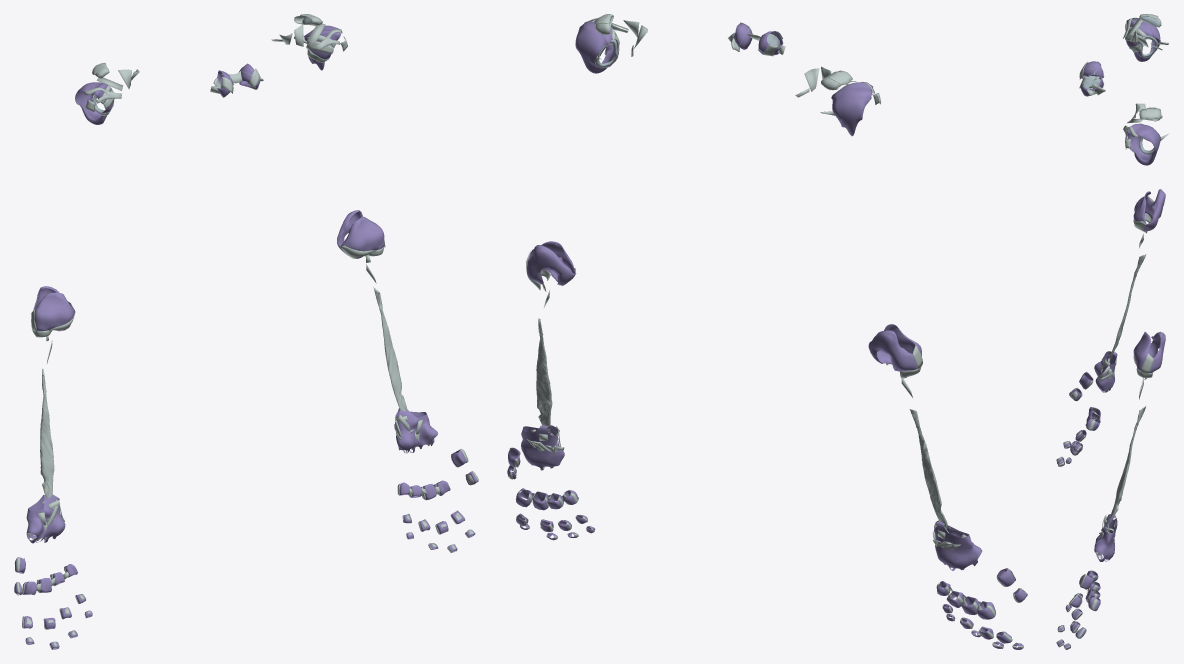
File: joints-upper-limb.glb
The picture shows the model from 3 angles, left to right: view 1: azimuth 30°, elevation 25°; view 2: azimuth 150°, elevation 25°; view 3: azimuth 270°, elevation 25°; orthographic projection. The views are drawn at different scales.
Visible parts, largest first — view 1: joint-articular-capsule-of-elbow-joint-l, joint-articular-capsule-of-elbow-joint-r, joint-articular-capsule-of-radiocarpal-joint-r, joint-interosseous-membrane-of-forearm-r, joint-articular-capsule-of-radiocarpal-joint-l, joint-interosseous-membrane-of-forearm-l, joint-articular-capsule-of-glenohumeral-joint-r, joint-articular-capsules-of-metacarpophalangeal-joints-l, joint-articular-capsules-of-metacarpophalangeal-joints-r; view 2: joint-articular-capsule-of-elbow-joint-r, joint-articular-capsule-of-elbow-joint-l, joint-articular-capsule-of-radiocarpal-joint-r, joint-articular-capsule-of-glenohumeral-joint-r, joint-articular-capsule-of-glenohumeral-joint-l, joint-articular-capsule-of-radiocarpal-joint-l, joint-interosseous-membrane-of-forearm-l, joint-articular-capsules-of-metacarpophalangeal-joints-r, joint-articular-capsules-of-metacarpophalangeal-joints-l, joint-interosseous-membrane-of-forearm-r; view 3: joint-articular-capsule-of-elbow-joint-l, joint-articular-capsule-of-glenohumeral-joint-l, joint-articular-capsule-of-elbow-joint-r, joint-articular-capsule-of-radiocarpal-joint-l, joint-interosseous-membrane-of-forearm-l, joint-articular-capsule-of-radiocarpal-joint-r, joint-articular-capsule-of-glenohumeral-joint-r, joint-articular-capsules-of-metacarpophalangeal-joints-l, joint-articular-capsules-of-proximal-interphalangeal-joints- (×2), joint-articular-capsules-of-metacarpophalangeal-joints-r, joint-interosseous-membrane-of-forearm-r, joint-articular-capsule-of-sternoclavicular-joint-r (+3 smaller).
Boxes of the visible parts, x1,y1,x2,y2 form: joint-articular-capsule-of-elbow-joint-l: [337, 210, 384, 258]; joint-articular-capsule-of-elbow-joint-r: [33, 286, 74, 331]; joint-articular-capsule-of-radiocarpal-joint-r: [26, 494, 65, 543]; joint-interosseous-membrane-of-forearm-r: [40, 368, 54, 498]; joint-articular-capsule-of-radiocarpal-joint-l: [395, 408, 437, 453]; joint-interosseous-membrane-of-forearm-l: [373, 287, 407, 411]; joint-articular-capsule-of-glenohumeral-joint-r: [75, 82, 113, 124]; joint-articular-capsules-of-metacarpophalangeal-joints-l: [399, 449, 466, 499]; joint-articular-capsules-of-metacarpophalangeal-joints-r: [14, 557, 77, 594]; joint-articular-capsule-of-elbow-joint-r: [868, 324, 921, 371]; joint-articular-capsule-of-elbow-joint-l: [526, 241, 575, 285]; joint-articular-capsule-of-radiocarpal-joint-r: [934, 520, 982, 570]; joint-articular-capsule-of-glenohumeral-joint-r: [831, 82, 873, 136]; joint-articular-capsule-of-glenohumeral-joint-l: [575, 20, 619, 73]; joint-articular-capsule-of-radiocarpal-joint-l: [521, 425, 564, 470]; joint-interosseous-membrane-of-forearm-l: [536, 318, 552, 430]; joint-articular-capsules-of-metacarpophalangeal-joints-r: [936, 568, 1014, 619]; joint-articular-capsules-of-metacarpophalangeal-joints-l: [508, 448, 578, 510]; joint-interosseous-membrane-of-forearm-r: [909, 409, 947, 528]; joint-articular-capsule-of-elbow-joint-l: [1133, 331, 1165, 373]; joint-articular-capsule-of-glenohumeral-joint-l: [1126, 123, 1160, 165]; joint-articular-capsule-of-elbow-joint-r: [1133, 189, 1165, 231]; joint-articular-capsule-of-radiocarpal-joint-l: [1094, 514, 1117, 561]; joint-interosseous-membrane-of-forearm-l: [1109, 406, 1146, 522]; joint-articular-capsule-of-radiocarpal-joint-r: [1094, 351, 1117, 392]; joint-articular-capsule-of-glenohumeral-joint-r: [1126, 18, 1160, 61]; joint-articular-capsules-of-metacarpophalangeal-joints-l: [1079, 570, 1100, 611]; joint-articular-capsules-of-proximal-interphalangeal-joints- (×2): [1070, 430, 1086, 638]; joint-articular-capsules-of-metacarpophalangeal-joints-r: [1079, 372, 1100, 430]; joint-interosseous-membrane-of-forearm-r: [1108, 254, 1146, 358]; joint-articular-capsule-of-sternoclavicular-joint-r: [1082, 61, 1103, 78].
Bounding box in the file's own units: 0.6615 × 0.7188 × 0.1494.
